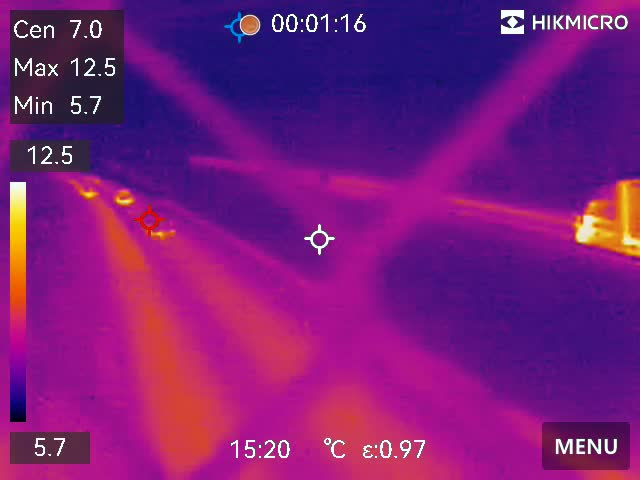heavyTruck: (570, 171, 640, 256)
